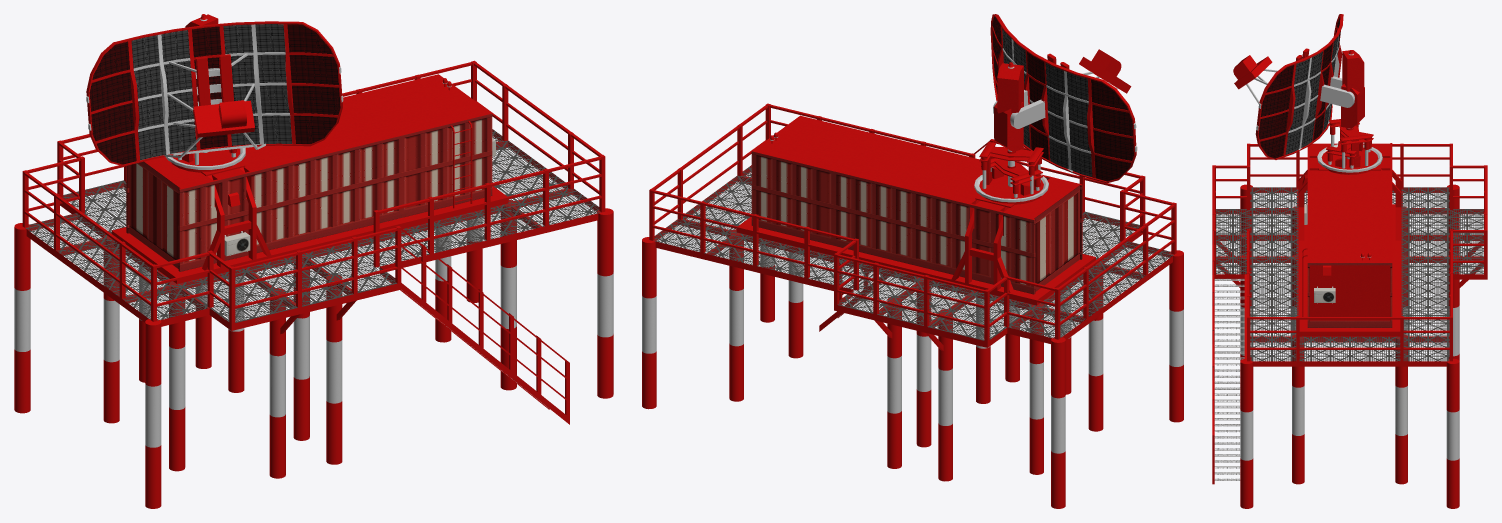
The model's file is radar.fbx.
3 renders of one model, left to right at view 1: azimuth 30°, elevation 25°; view 2: azimuth 150°, elevation 25°; view 3: azimuth 270°, elevation 25°, orthographic. The views are drawn at different scales.
Visible parts, largest first — view 1: Container, Radar, Pillars, Metal_Floor, Fence, Container_Base, Supports, Container_Support, Container_Details; view 2: Container, Pillars, Metal_Floor, Radar, Fence, Container_Base, Supports, Container_Support; view 3: Metal_Floor, Container, Radar, Pillars, Fence, Supports, Stair, Container_Base, Container_Support, Conditioners.
Boxes of the visible parts, x1,y1,x2,y2 form: Container: [126, 74, 492, 271]; Radar: [86, 14, 343, 172]; Pillars: [14, 78, 613, 508]; Metal_Floor: [25, 129, 600, 424]; Fence: [22, 60, 605, 417]; Container_Base: [111, 186, 508, 283]; Supports: [57, 140, 573, 334]; Container_Support: [202, 167, 270, 270]; Container_Details: [228, 121, 472, 208]; Container: [751, 115, 1082, 294]; Pillars: [642, 132, 1183, 508]; Metal_Floor: [653, 165, 1173, 347]; Radar: [974, 14, 1137, 204]; Fence: [649, 103, 1176, 341]; Container_Base: [736, 217, 1095, 305]; Supports: [678, 175, 1145, 350]; Container_Support: [951, 200, 1014, 293]; Metal_Floor: [1212, 187, 1487, 484]; Container: [1307, 143, 1392, 327]; Radar: [1233, 14, 1382, 174]; Pillars: [1240, 184, 1459, 508]; Fence: [1212, 143, 1487, 478]; Supports: [1216, 188, 1483, 342]; Stair: [1214, 278, 1244, 480]; Container_Base: [1298, 204, 1401, 336]; Container_Support: [1298, 169, 1401, 240]; Conditioners: [1304, 204, 1335, 303].
Size of the model in its own units: 12.46 by 10.71 by 8.
8 materials, 8 textured.
